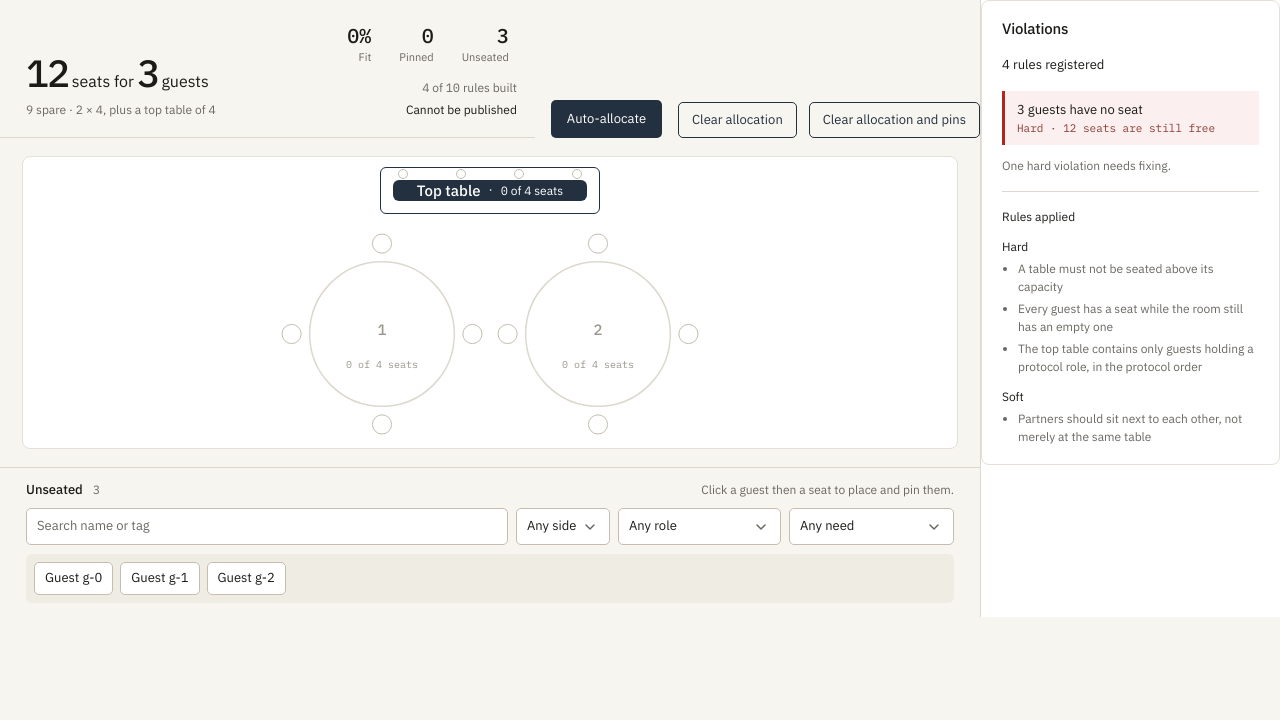
Test case: PlanScreen — selecting a table opens its detail panel; dismissing returns the violations panel (TT-15, C1, C9) › clicking the same table again toggles its detail panel closed
Click the button "1 0 of 4 seats".
click(382, 334)  # box top-left (282, 234), bottom-right (482, 434)
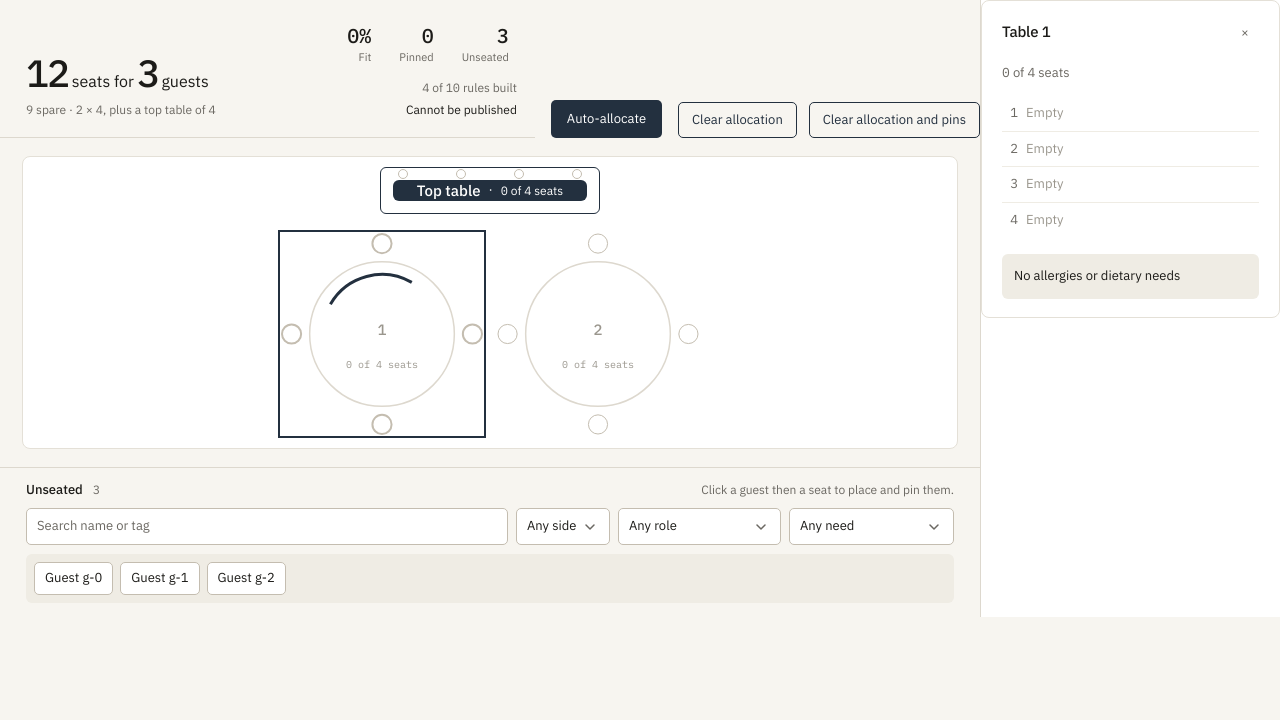
Result: the heading "Table 1" is shown at top-left (1002, 22), bottom-right (1050, 41)
Click the button "1 0 of 4 seats".
click(382, 334)  # box top-left (282, 234), bottom-right (482, 434)
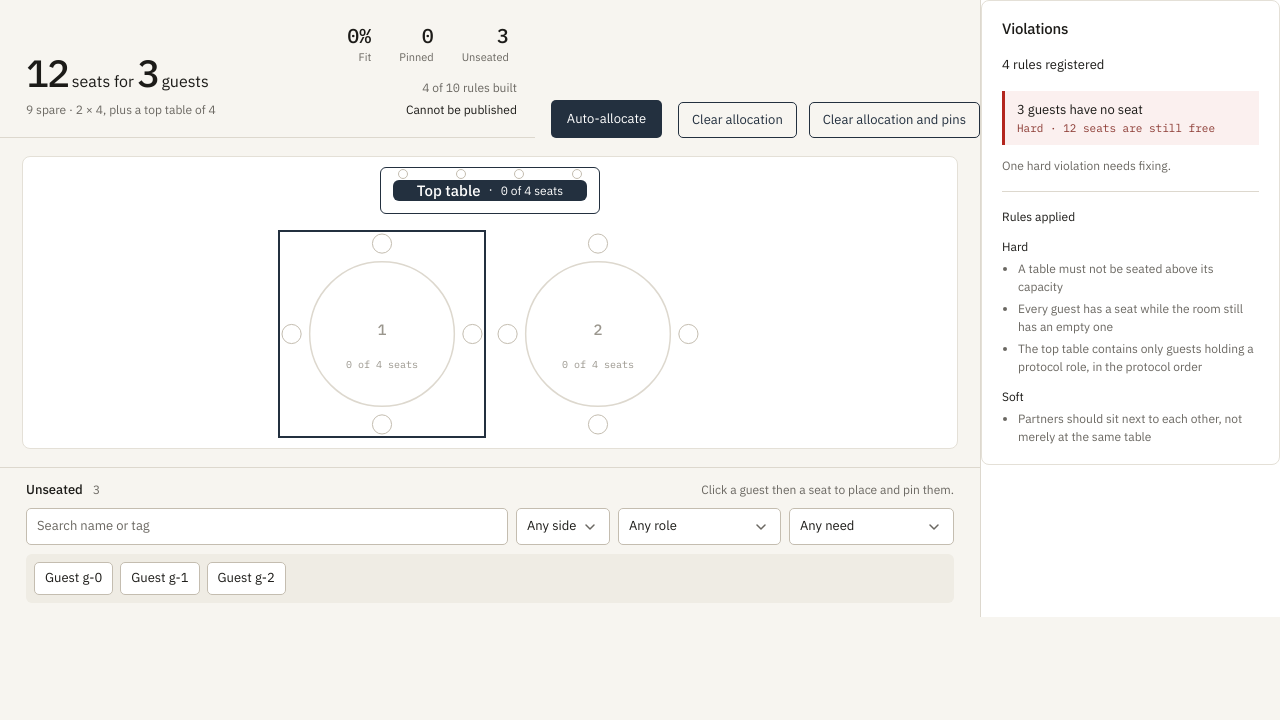
Result: the heading "Violations" is shown at top-left (1002, 19), bottom-right (1068, 38)
